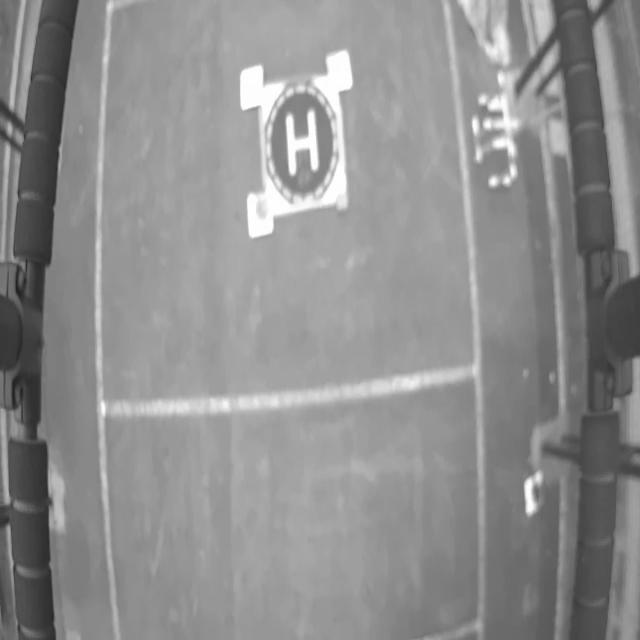Helipad: (286, 106, 319, 177)
